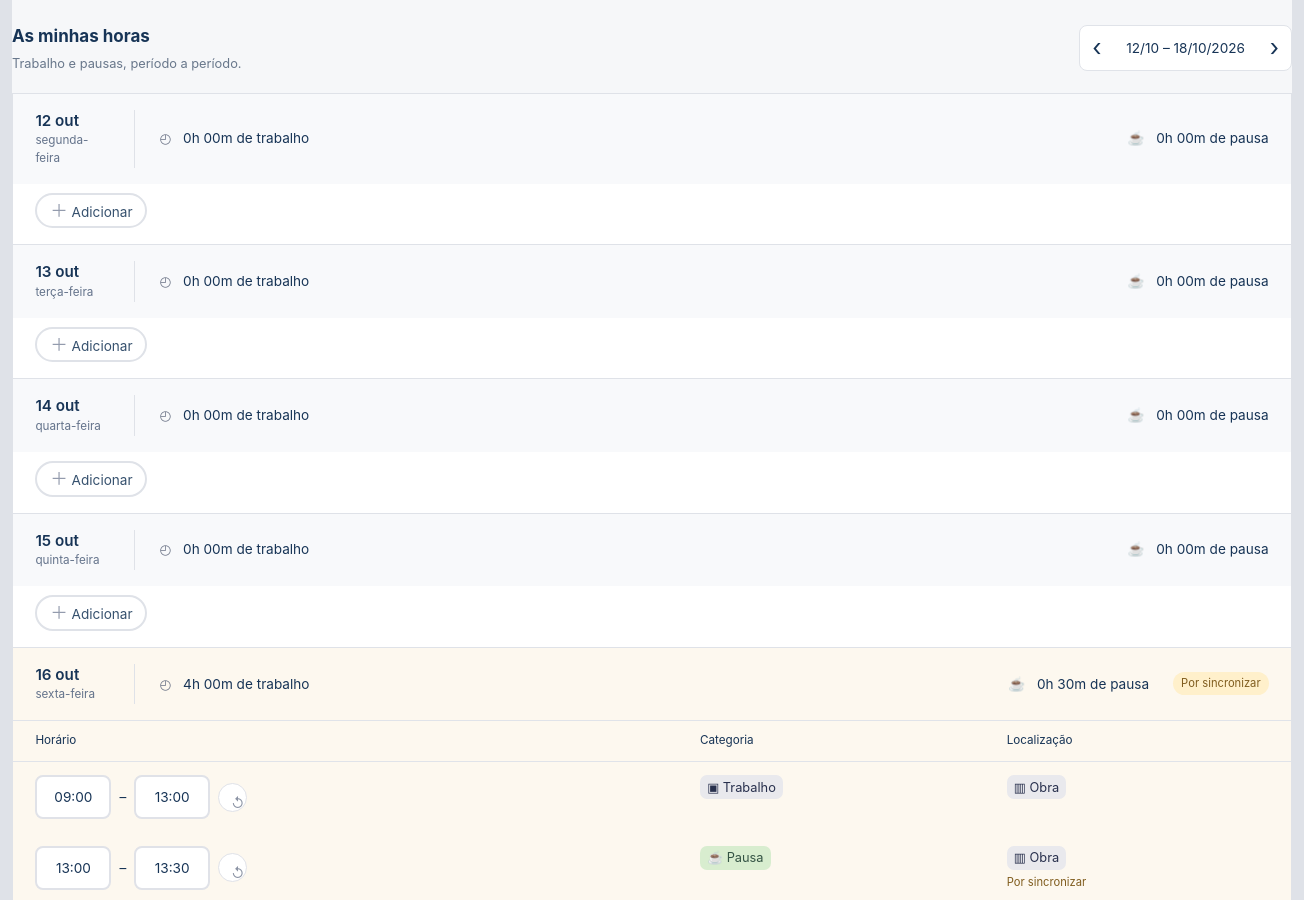
mostra o resumo do trabalho e das pausas e o histórico sem permitir apagar factos
Expected: the text "4h 00m de trabalho" is shown, [159,674,310,694]
Expected: the text "0h 30m de pausa" is shown, [1008,674,1149,694]
Click the button named "Histórico do período w": (233,797) [218,783,247,812]
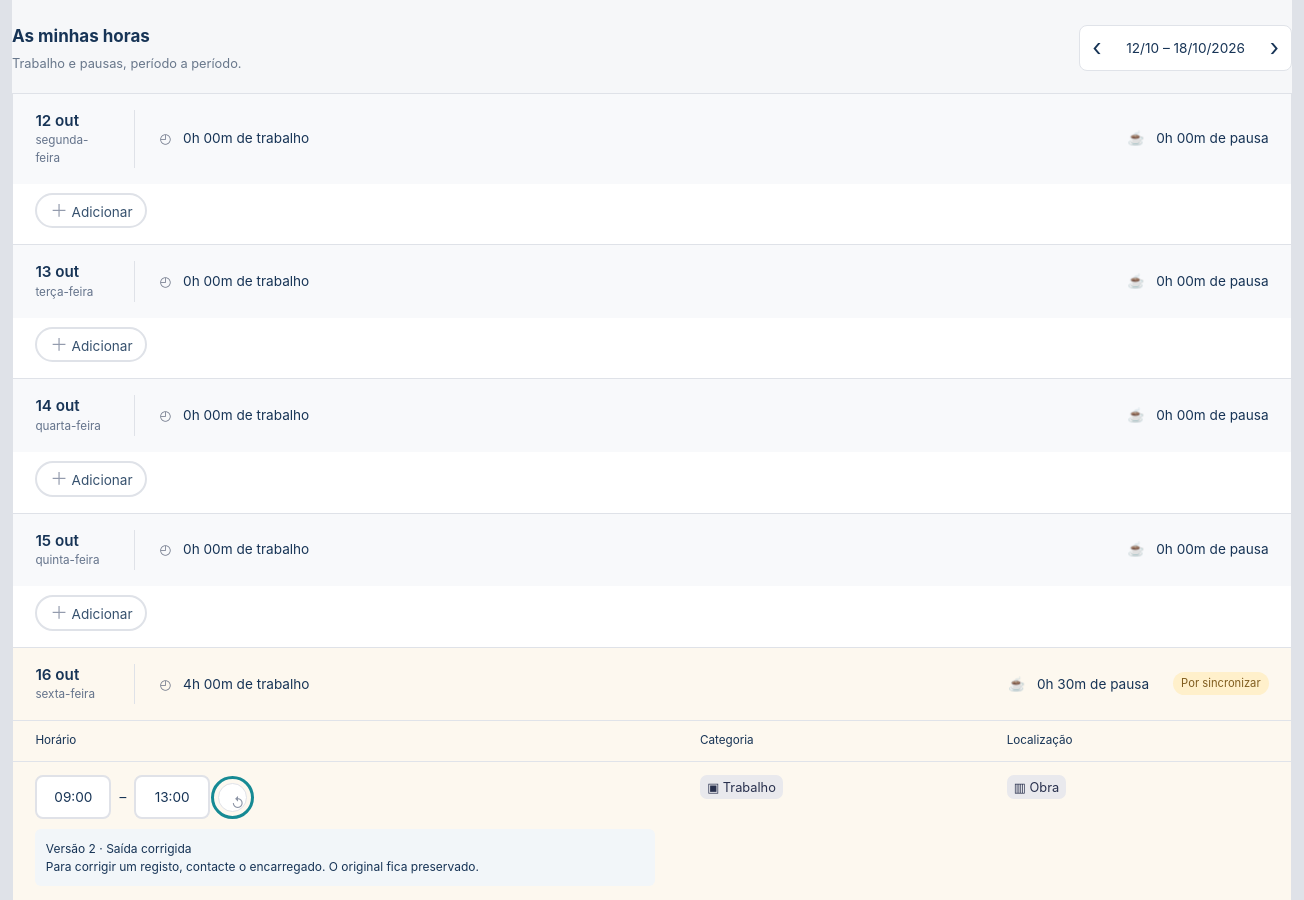
Now the text "Versão 2 · Saída corrigida" is shown, box [46,841,192,856]
